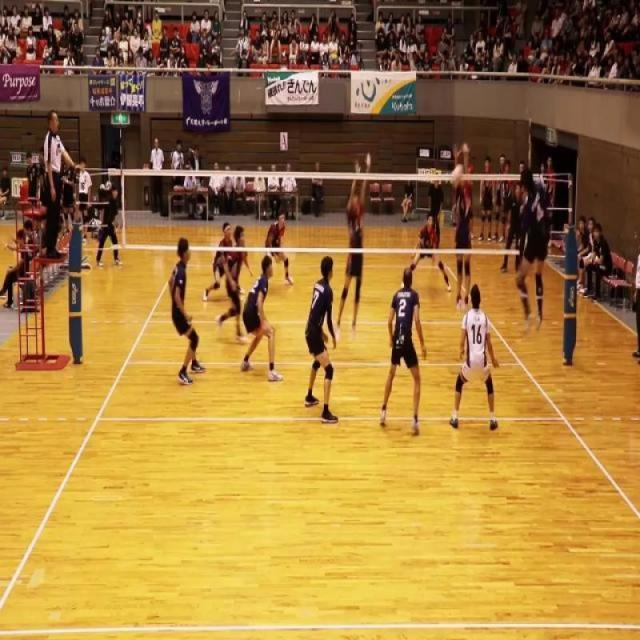volleyball: (366, 151, 370, 171)
